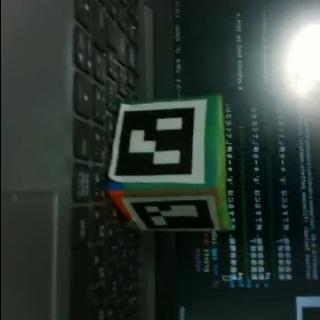armor: (109, 102, 205, 184), (119, 196, 218, 230)
robot: (102, 98, 230, 232)
